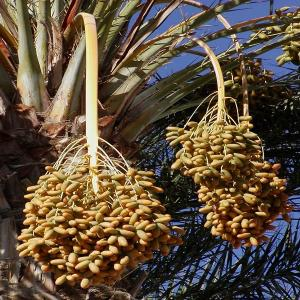palm tree: (2, 0, 298, 299)
